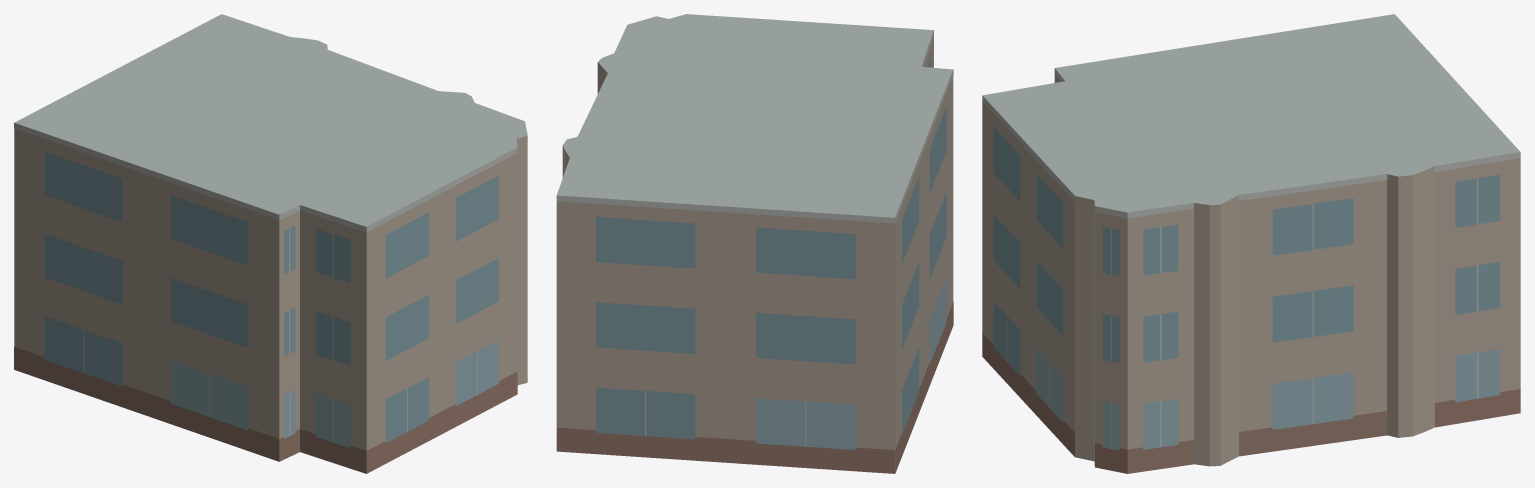
File: survey-upis-32539637.glb
The picture shows the model from 3 angles, left to right: view 1: azimuth 30°, elevation 25°; view 2: azimuth 150°, elevation 25°; view 3: azimuth 270°, elevation 25°; orthographic projection. The views are drawn at different scales.
Parts seen in each view (by area): view 1: survey-upis-32539637.tmp; view 2: survey-upis-32539637.tmp; view 3: survey-upis-32539637.tmp.
Boxes of the visible parts, x1,y1,x2,y2 form: survey-upis-32539637.tmp: (14,14,527,473); survey-upis-32539637.tmp: (556,14,953,473); survey-upis-32539637.tmp: (982,14,1520,473).
Bounding box in the file's own units: 17.61 × 10.8 × 20.17.
